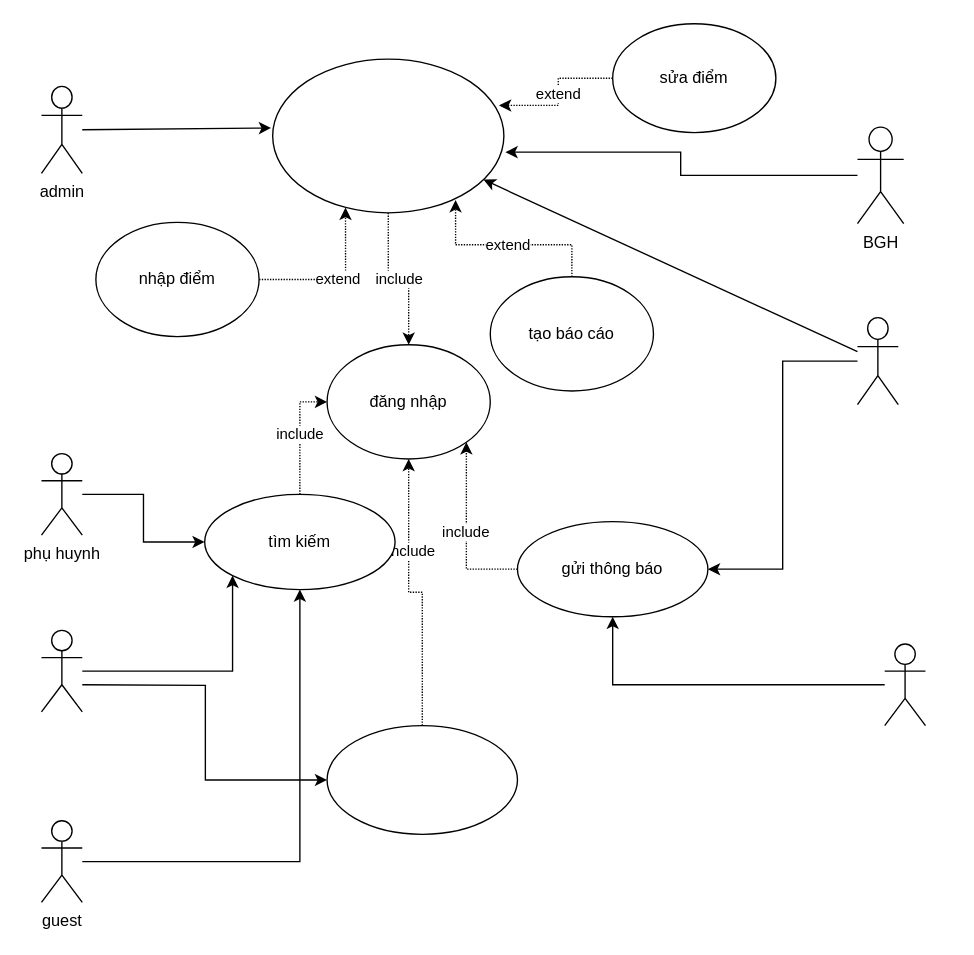
Image size: 974x955. Some labels were removed from this diagram. Each missing label, with the centre of its shape:
"CB phòng đt" goes at (x=904, y=684).
"giáo viên" goes at (x=877, y=360).
"quản lí điểm" goes at (x=387, y=135).
"sinh viên" goes at (x=61, y=670).
"xem lịch" goes at (x=421, y=779).
